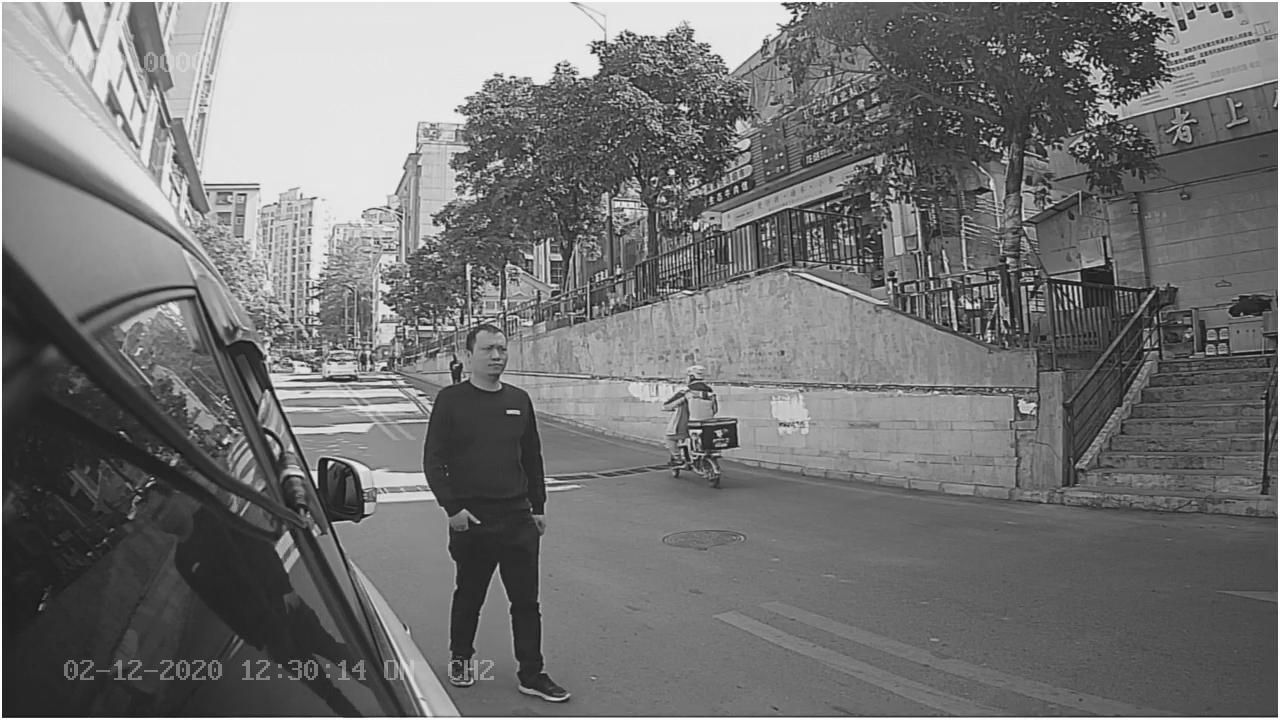person: (418, 320, 562, 532)
